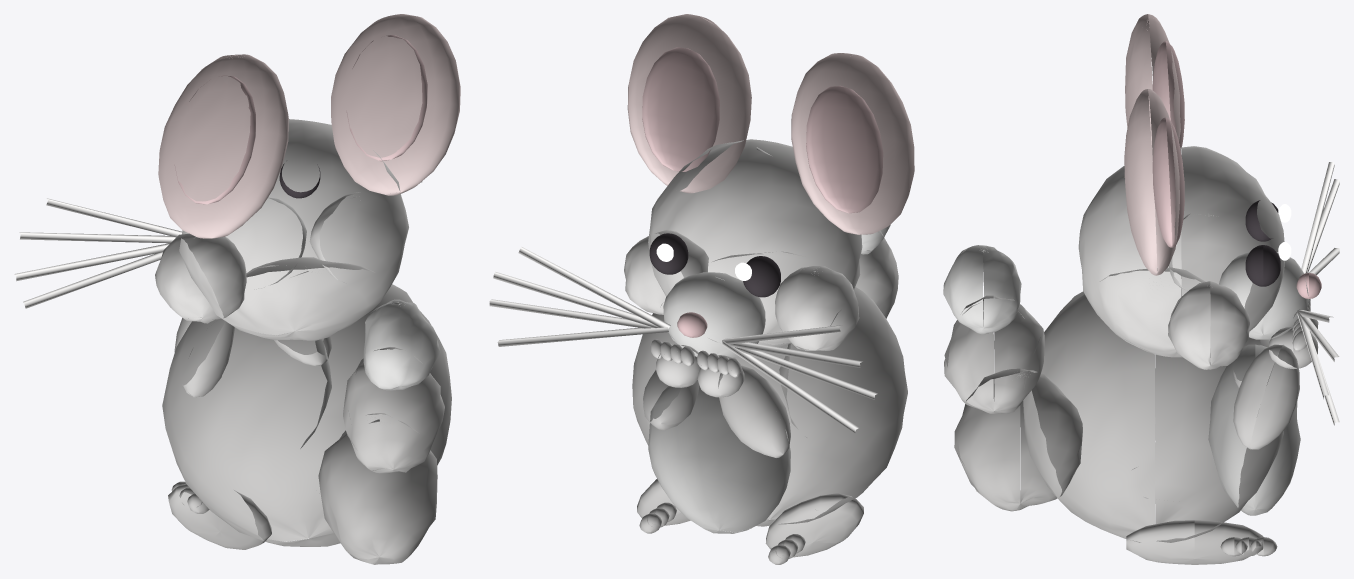
The model's file is pet_chinchilla_white.glb.
3 renders of one model, left to right at view 1: azimuth 30°, elevation 25°; view 2: azimuth 150°, elevation 25°; view 3: azimuth 270°, elevation 25°, orthographic. The views are drawn at different scales.
Parts seen in each view (by area): view 1: chinchilla; view 2: chinchilla; view 3: chinchilla.
Boxes of the visible parts, box(x1,y1,x2,y2) form: chinchilla: box(14, 14, 460, 564); chinchilla: box(489, 14, 914, 564); chinchilla: box(943, 14, 1339, 564).
Size of the model in its own units: 0.8416 by 1 by 0.7516.
